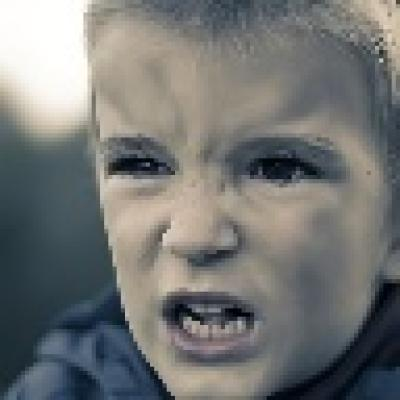angry: (86, 10, 381, 379)
